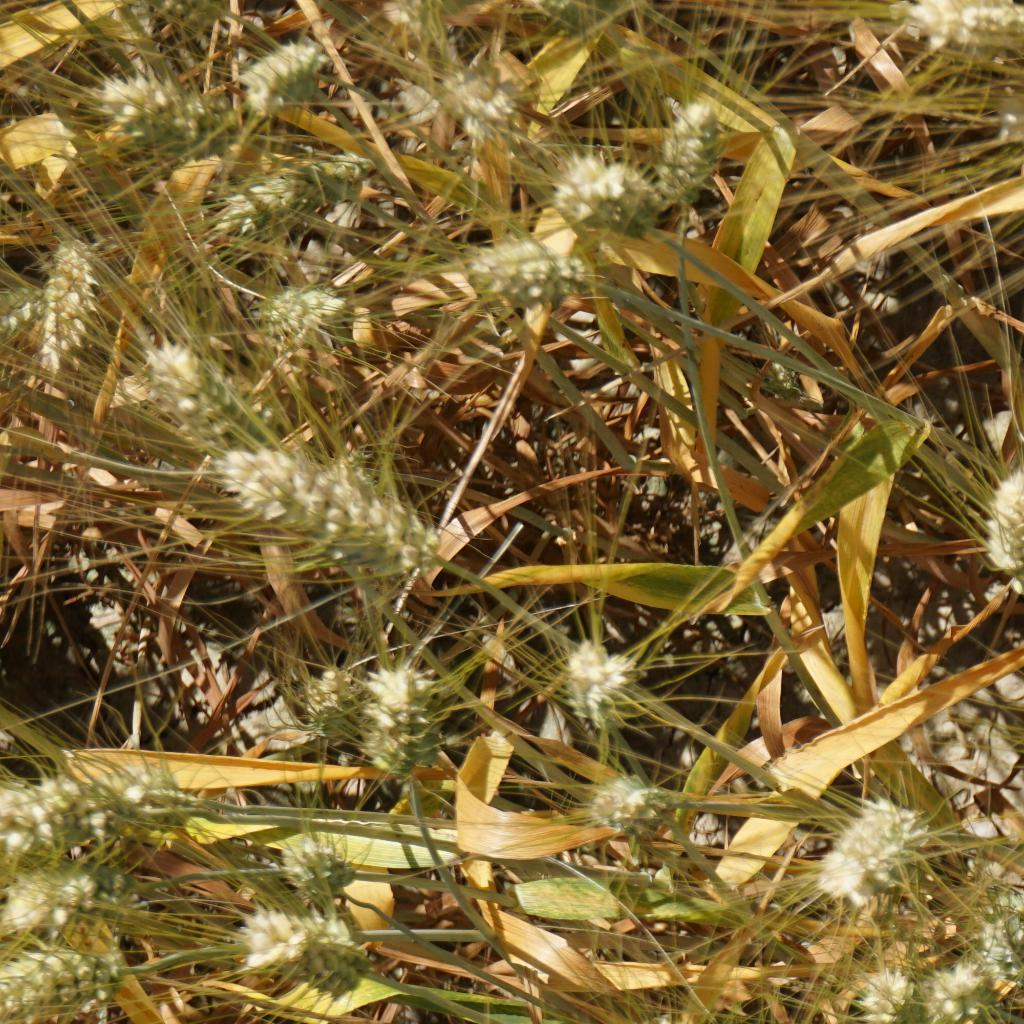0-0: (222, 448, 432, 570), (813, 787, 931, 905), (242, 908, 372, 990), (135, 340, 243, 438), (88, 76, 236, 147), (358, 662, 446, 775), (205, 161, 365, 215), (31, 237, 101, 357), (549, 631, 629, 721), (564, 162, 658, 238), (0, 860, 99, 931), (579, 764, 674, 836), (474, 232, 563, 306), (910, 0, 1024, 56), (98, 757, 192, 824), (655, 107, 723, 195), (976, 464, 1024, 586), (247, 280, 343, 340), (0, 945, 114, 995), (916, 940, 994, 1012), (282, 833, 367, 897), (850, 965, 939, 1024), (0, 787, 88, 845), (236, 40, 324, 97), (288, 662, 358, 733), (442, 80, 517, 137), (748, 347, 808, 408), (989, 918, 1024, 997), (986, 93, 1024, 146), (0, 294, 38, 340)
